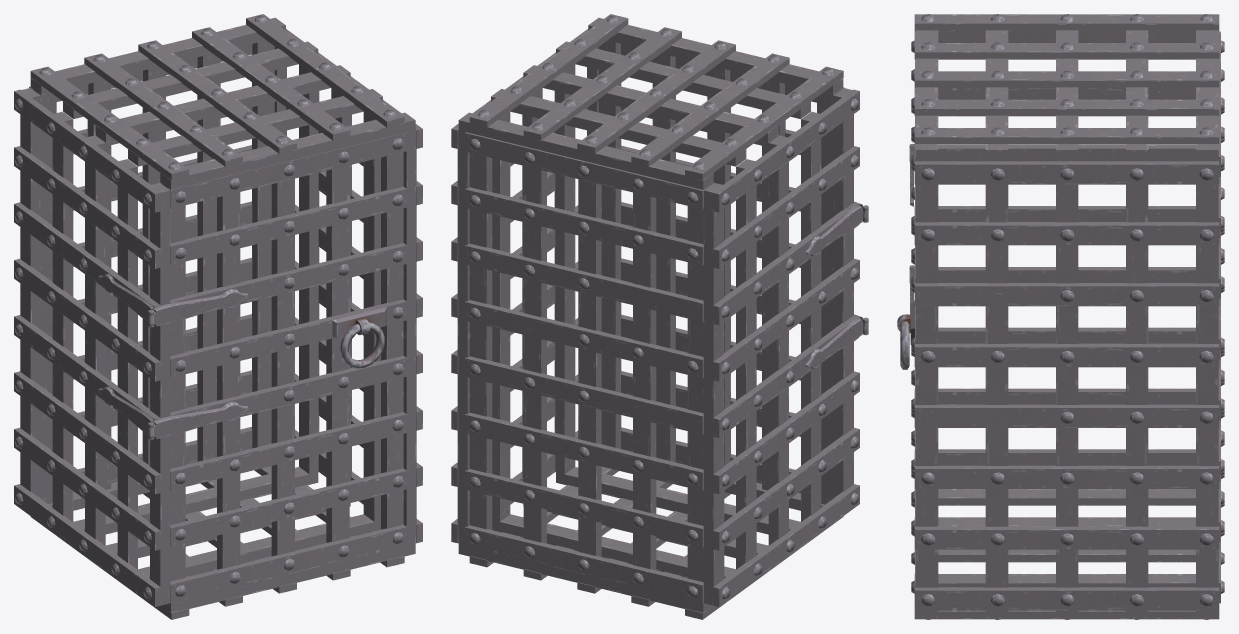
File: Cage_Large.gltf
The picture shows the model from 3 angles, left to right: view 1: azimuth 30°, elevation 25°; view 2: azimuth 150°, elevation 25°; view 3: azimuth 270°, elevation 25°; orthographic projection. The views are drawn at different scales.
Visible parts, largest first — view 1: Cage_Large; view 2: Cage_Large; view 3: Cage_Large.
Boxes of the visible parts, bbox=[...] form: Cage_Large: bbox=[14, 14, 422, 619]; Cage_Large: bbox=[451, 14, 868, 619]; Cage_Large: bbox=[897, 14, 1224, 619].
Size of the model in its own units: 0.8581 by 1.33 by 0.8096.
1 material, 1 textured.
